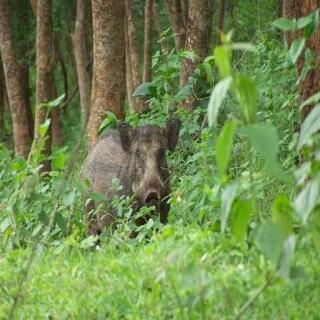Pig: (76, 97, 184, 246)
